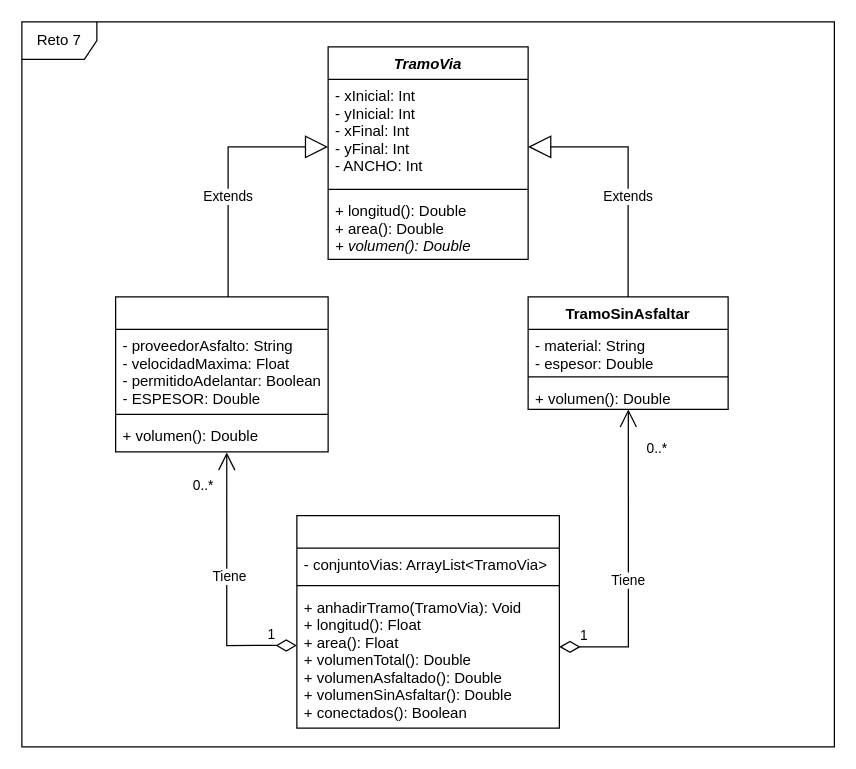
The diagram is 856 pixels wide and 769 high, and some of its shapes have lost their labels. Here are the shapes that lost their labels. From the top down, the box of each, then its label:
(114, 296, 328, 452): TramoAsfaltado
(296, 514, 559, 728): Carretera
